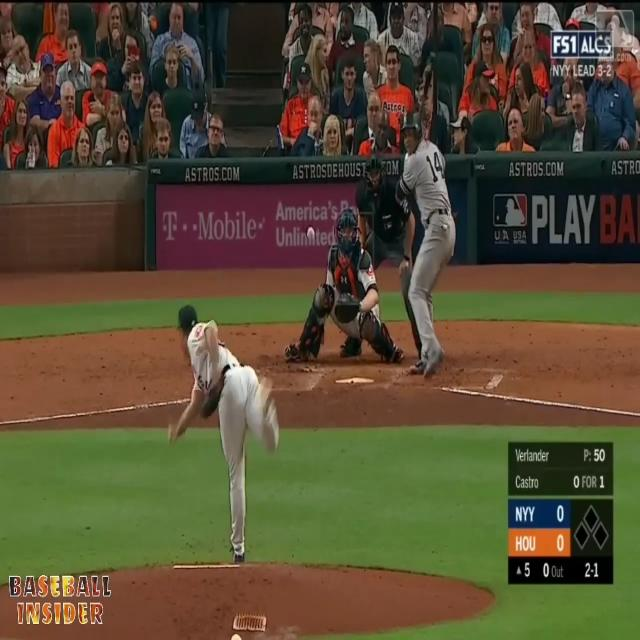baseball: (308, 227, 314, 240)
